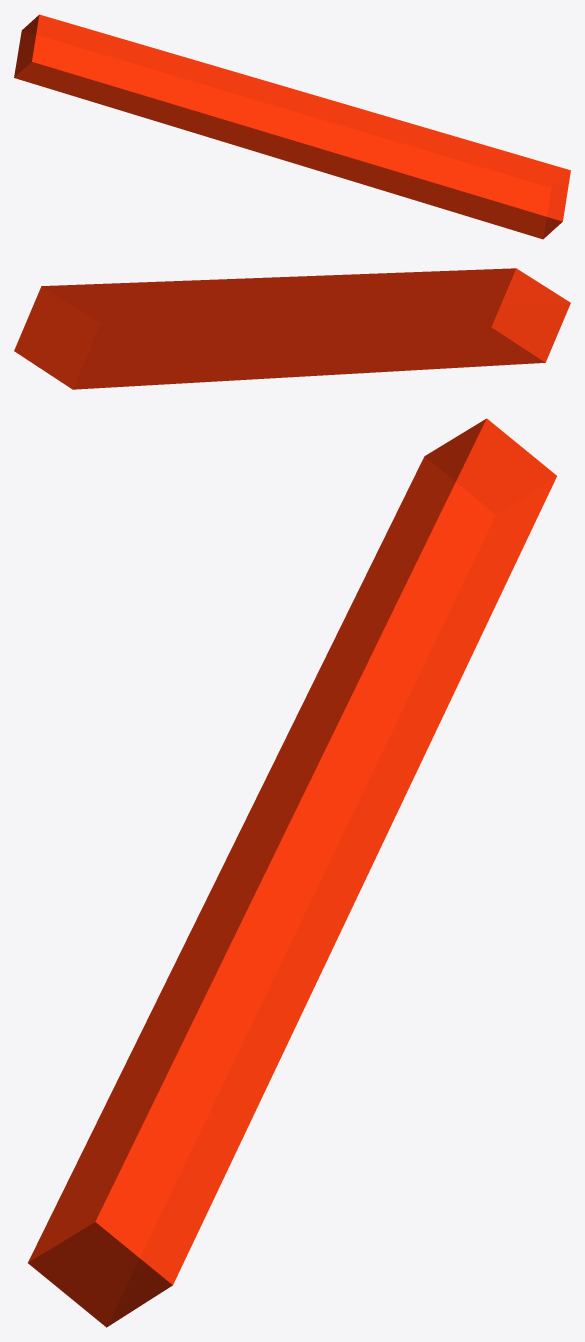
The model's file is Event_421278790_EBrechit_26.fbx.
The picture shows the model from 3 angles, top to bottom: view 1: azimuth 30°, elevation 25°; view 2: azimuth 150°, elevation 25°; view 3: azimuth 270°, elevation 25°; orthographic projection. The views are drawn at different scales.
Parts seen in each view (by area): view 1: Model; view 2: Model; view 3: Model.
Boxes of the visible parts, x1,y1,x2,y2 form: Model: (14,14,570,239); Model: (14,268,570,389); Model: (28,418,556,1327).
Bounding box in the file's own units: 0.6146 × 0.3281 × 0.3085.
